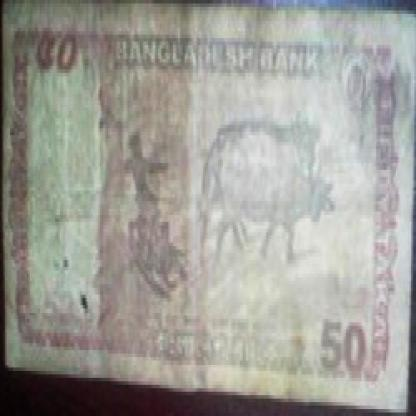Fifty taka: (310, 312, 374, 392), (30, 21, 88, 83)
